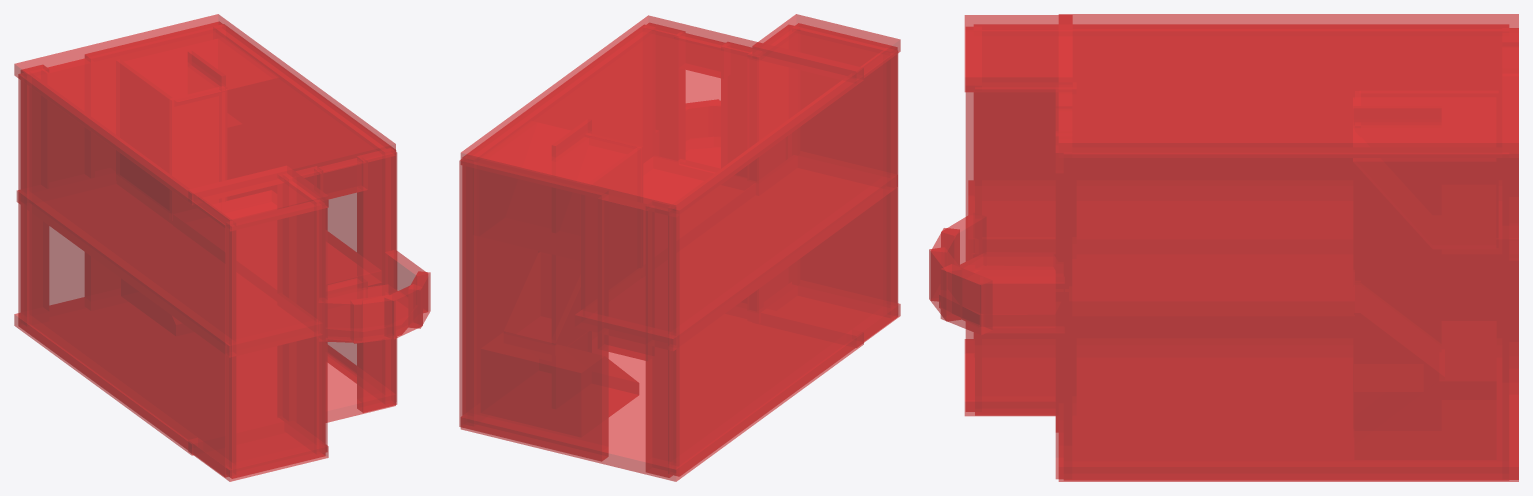
The model's file is SM_Bld_House_03_C_Collision.fbx.
The picture shows the model from 3 angles, left to right: view 1: azimuth 30°, elevation 25°; view 2: azimuth 150°, elevation 25°; view 3: azimuth 270°, elevation 25°; orthographic projection. The views are drawn at different scales.
Visible parts, largest first — view 1: SM_Bld_House_03_C_Collision; view 2: SM_Bld_House_03_C_Collision; view 3: SM_Bld_House_03_C_Collision.
Boxes of the visible parts, x1,y1,x2,y2 form: SM_Bld_House_03_C_Collision: (14, 14, 430, 481); SM_Bld_House_03_C_Collision: (459, 14, 900, 481); SM_Bld_House_03_C_Collision: (929, 14, 1518, 481).
Size of the model in its own units: 556 by 666 by 1050.
